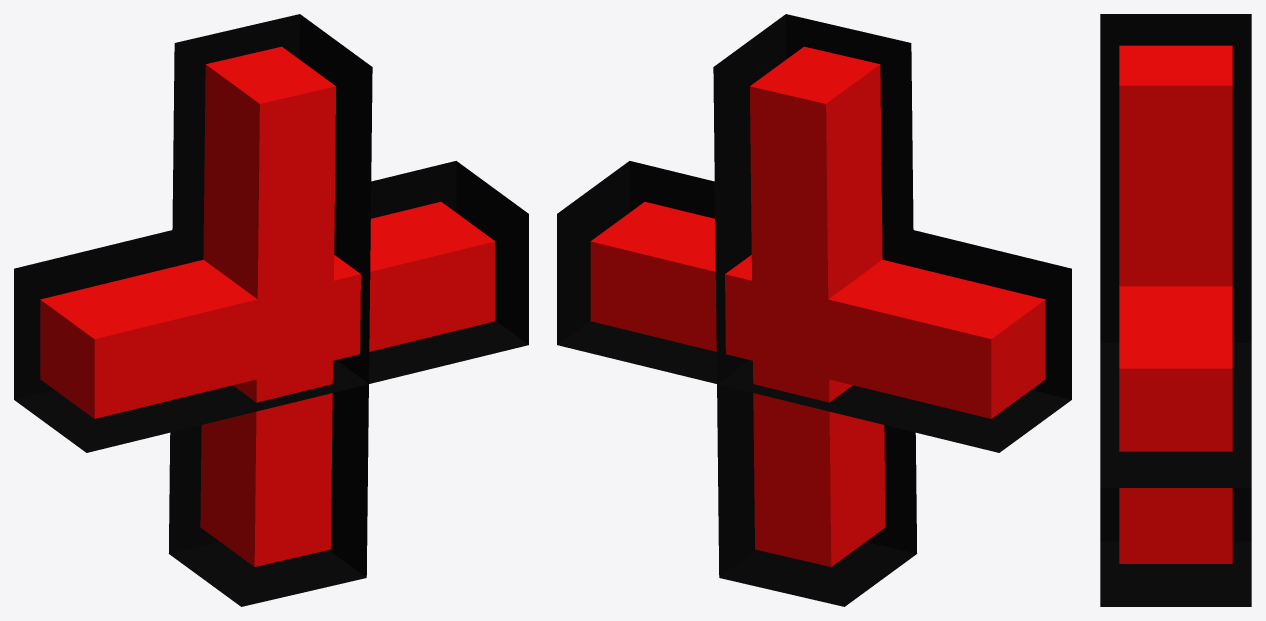
File: health.obj
3 views of the same model, side by side, from view 1: azimuth 30°, elevation 25°; view 2: azimuth 150°, elevation 25°; view 3: azimuth 270°, elevation 25° (orthographic). The views are drawn at different scales.
Parts seen in each view (by area): view 1: red, outline; view 2: red, outline; view 3: red, outline.
Boxes of the visible parts, x1,y1,x2,y2 form: red: [40, 46, 495, 566]; outline: [14, 14, 528, 606]; red: [590, 46, 1045, 566]; outline: [557, 14, 1071, 606]; red: [1119, 45, 1232, 563]; outline: [1100, 14, 1251, 606].
Bounding box in the file's own units: 18.97 × 20.95 × 5.39.
